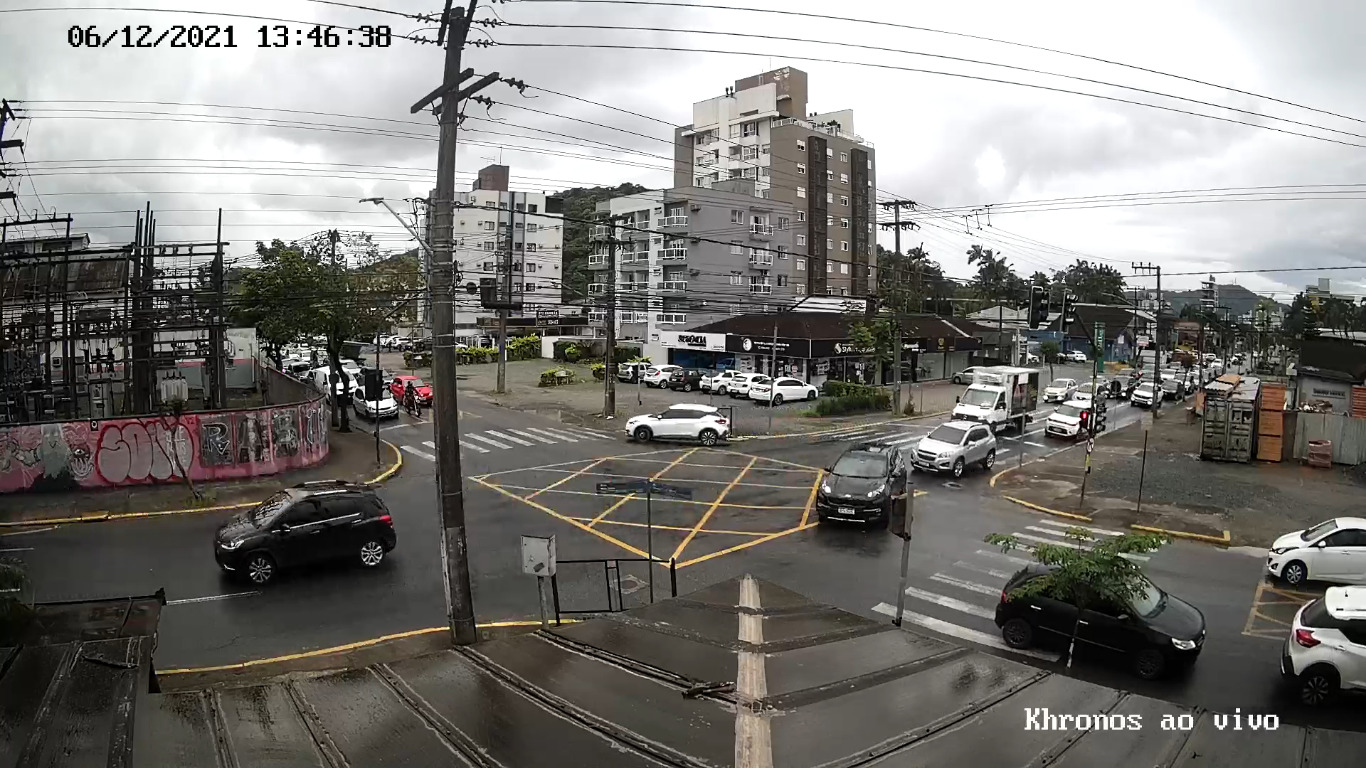car: (994, 553, 1206, 679), (212, 480, 399, 585), (1283, 582, 1366, 714), (813, 442, 907, 527), (1266, 517, 1366, 583), (910, 419, 997, 478), (625, 403, 729, 446)
